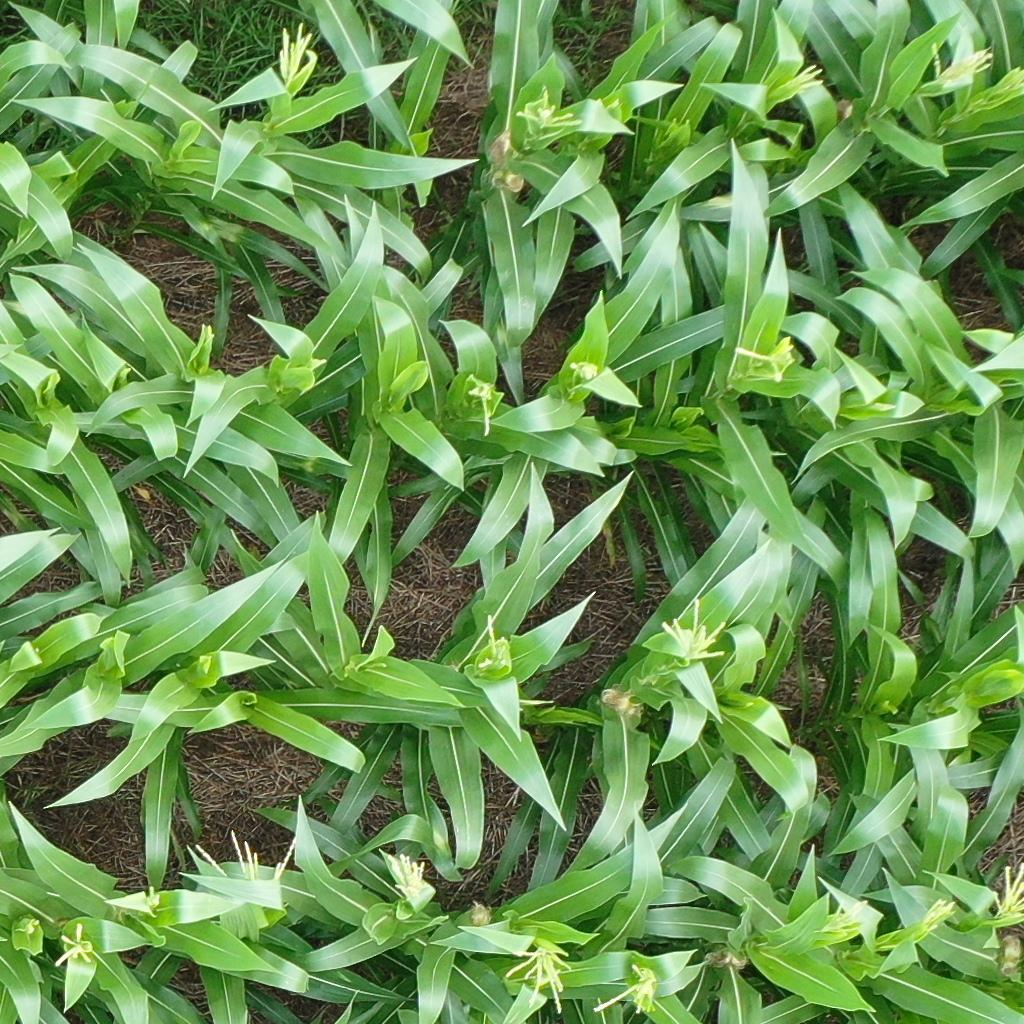Tassel: (191, 825, 295, 887), (654, 592, 727, 664), (504, 944, 575, 1013), (919, 36, 991, 90), (594, 961, 661, 1014), (510, 92, 582, 140), (731, 336, 798, 386), (273, 22, 321, 82), (465, 377, 503, 439), (386, 849, 429, 900), (821, 894, 873, 936), (477, 615, 514, 672), (55, 920, 98, 969), (990, 859, 1022, 923), (920, 892, 959, 931), (787, 56, 824, 94), (993, 63, 1024, 105), (570, 359, 605, 384), (141, 886, 167, 912)
